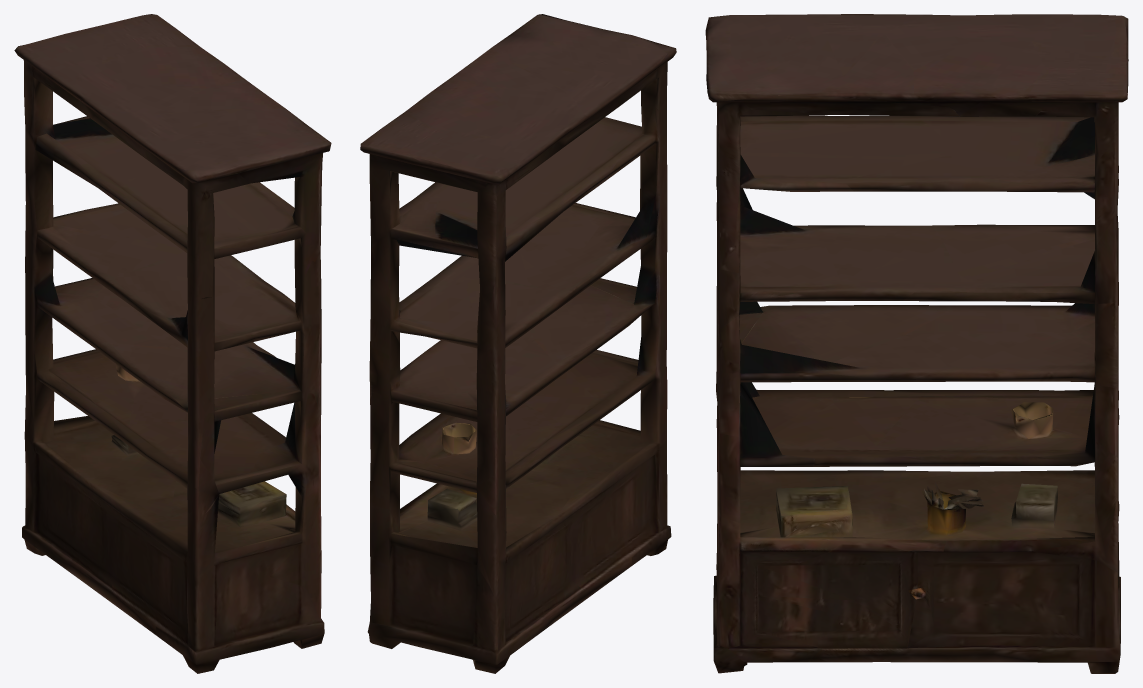
Rendered from shelf.glb.
3 views of the same model, side by side, from view 1: azimuth 30°, elevation 25°; view 2: azimuth 150°, elevation 25°; view 3: azimuth 270°, elevation 25° (orthographic). The views are drawn at different scales.
Parts seen in each view (by area): view 1: tripo_node_e8ac74e8-e36f-40f6-a073-47ce343c15fe; view 2: tripo_node_e8ac74e8-e36f-40f6-a073-47ce343c15fe; view 3: tripo_node_e8ac74e8-e36f-40f6-a073-47ce343c15fe.
Boxes of the visible parts, <box> form: tripo_node_e8ac74e8-e36f-40f6-a073-47ce343c15fe: <box>14,14,331,673</box>; tripo_node_e8ac74e8-e36f-40f6-a073-47ce343c15fe: <box>360,14,676,673</box>; tripo_node_e8ac74e8-e36f-40f6-a073-47ce343c15fe: <box>705,14,1128,673</box>.
Bounding box in the file's own units: 0.2981 × 1 × 0.6557.
Materials: 1 (1 with a texture image).
